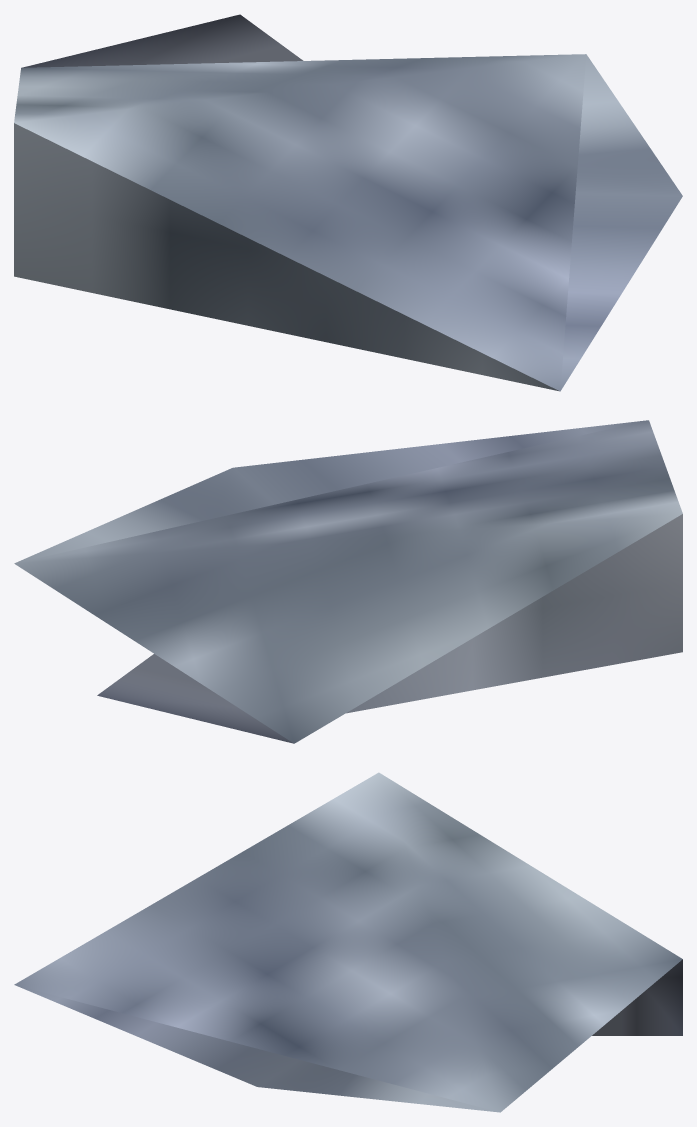
3 renders of one model, top to bottom at view 1: azimuth 30°, elevation 25°; view 2: azimuth 150°, elevation 25°; view 3: azimuth 270°, elevation 25°, orthographic. The views are drawn at different scales.
Parts seen in each view (by area): view 1: 30436272704361607652_0; view 2: 30436272704361607652_0; view 3: 30436272704361607652_0.
Part boxes in pixels (left/top/right/bottom): 30436272704361607652_0: left=14, top=14, right=682, bottom=391; 30436272704361607652_0: left=14, top=420, right=682, bottom=743; 30436272704361607652_0: left=14, top=772, right=682, bottom=1112.
Bounding box in the file's own units: 1.38 × 0.3083 × 1.7.
1 material, 1 textured.
